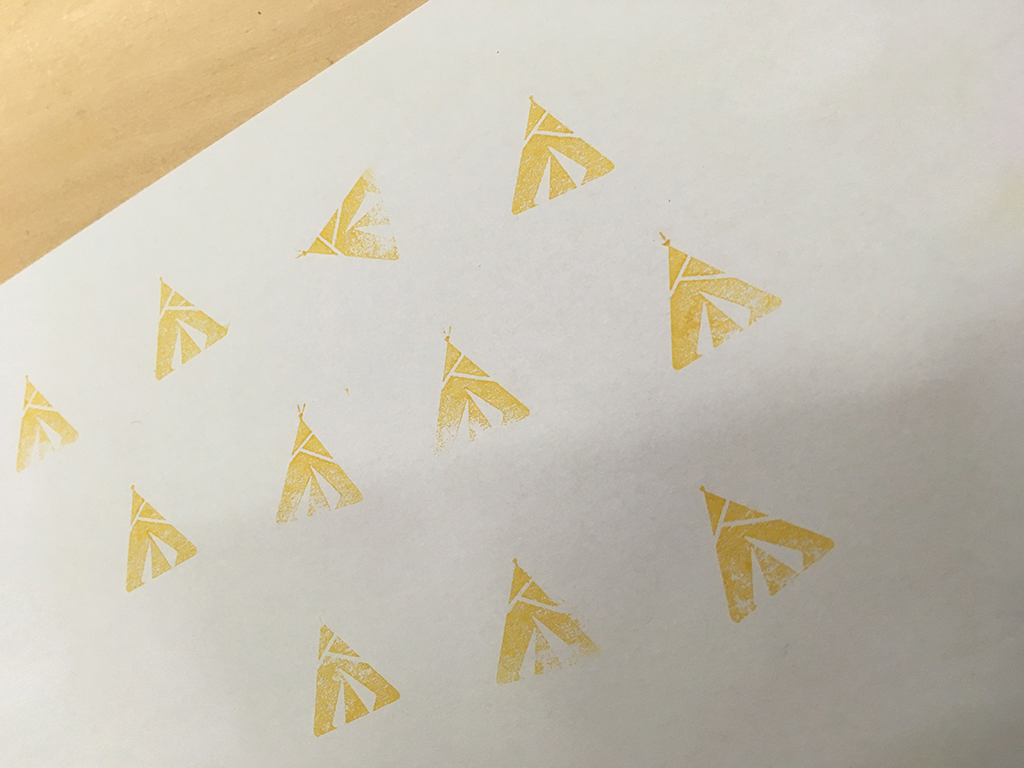tent: (693, 478, 842, 635), (650, 225, 790, 376), (482, 546, 609, 688), (417, 319, 540, 459), (499, 89, 628, 222), (294, 603, 405, 740), (268, 398, 372, 535), (286, 162, 405, 271), (114, 474, 206, 598), (141, 266, 230, 389), (10, 366, 86, 483)
